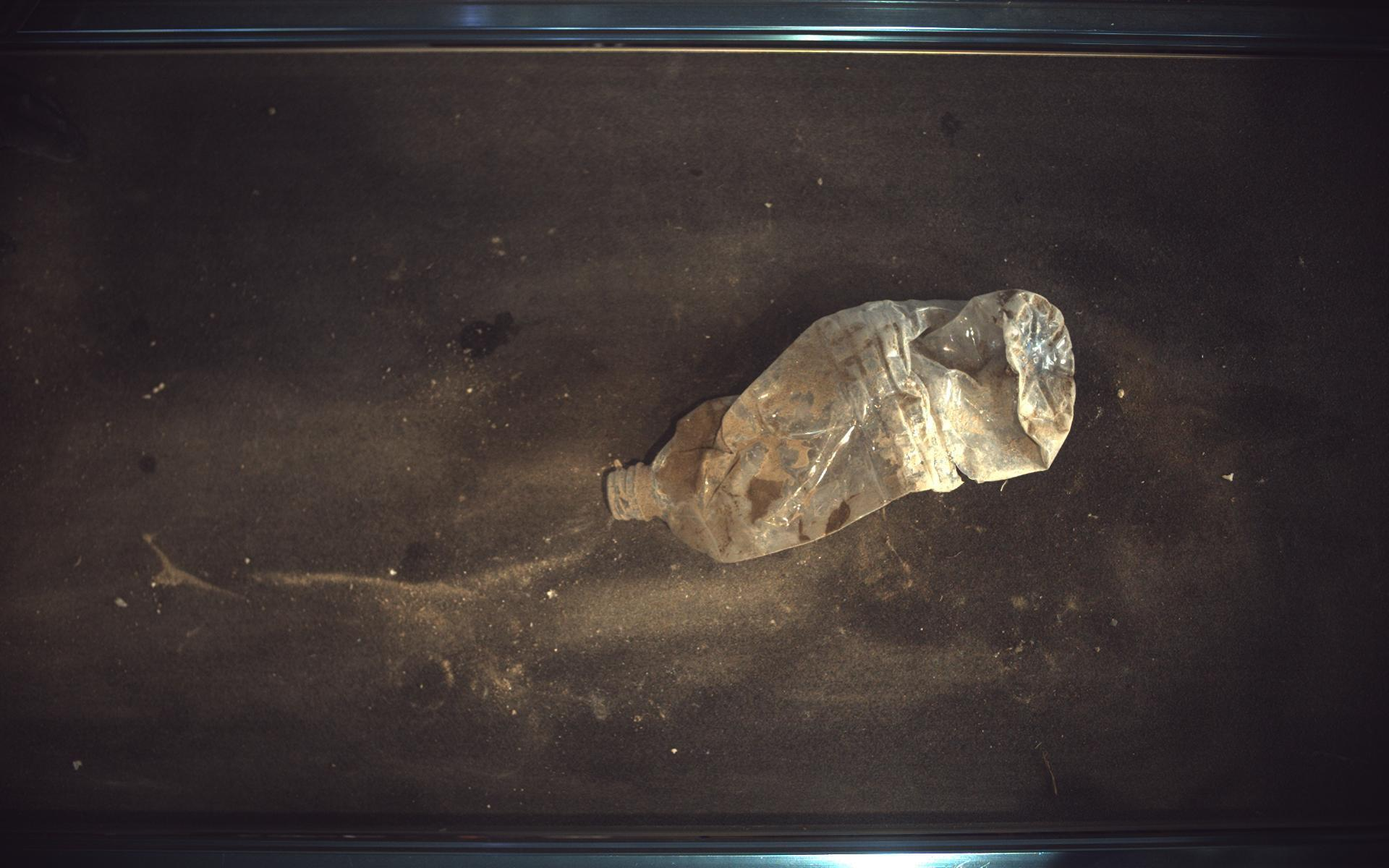general_w: (607, 289, 1078, 563)
